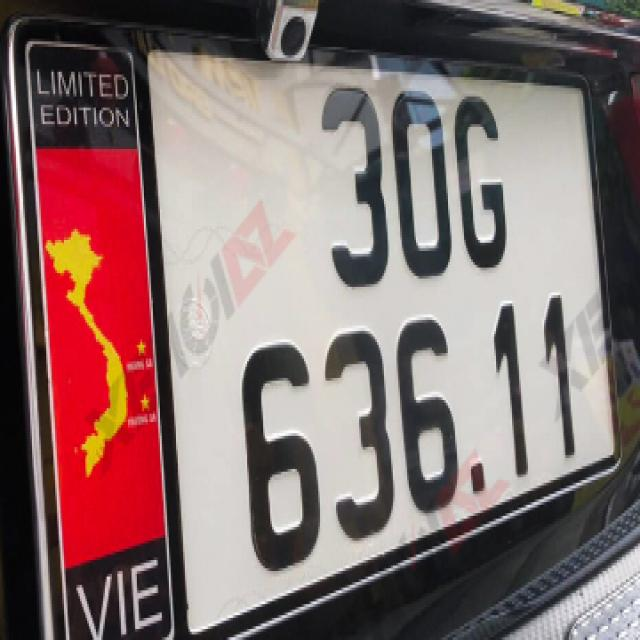0: (394, 82, 455, 281)
1: (491, 295, 534, 486), (540, 284, 578, 466)
3: (323, 316, 394, 554), (318, 80, 393, 295)
6: (236, 335, 322, 580), (394, 311, 466, 527)
G: (453, 90, 513, 280)
